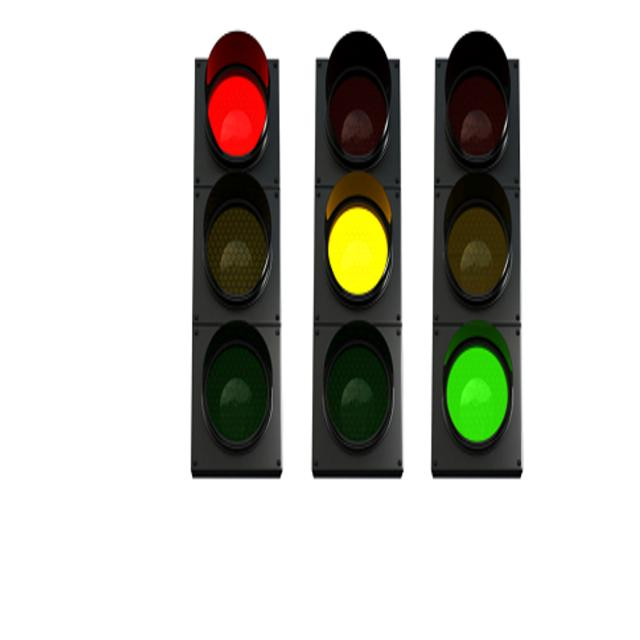green-lights: (440, 326, 513, 448)
red-lights: (202, 50, 272, 158)
yellow-lights: (322, 185, 396, 307)
